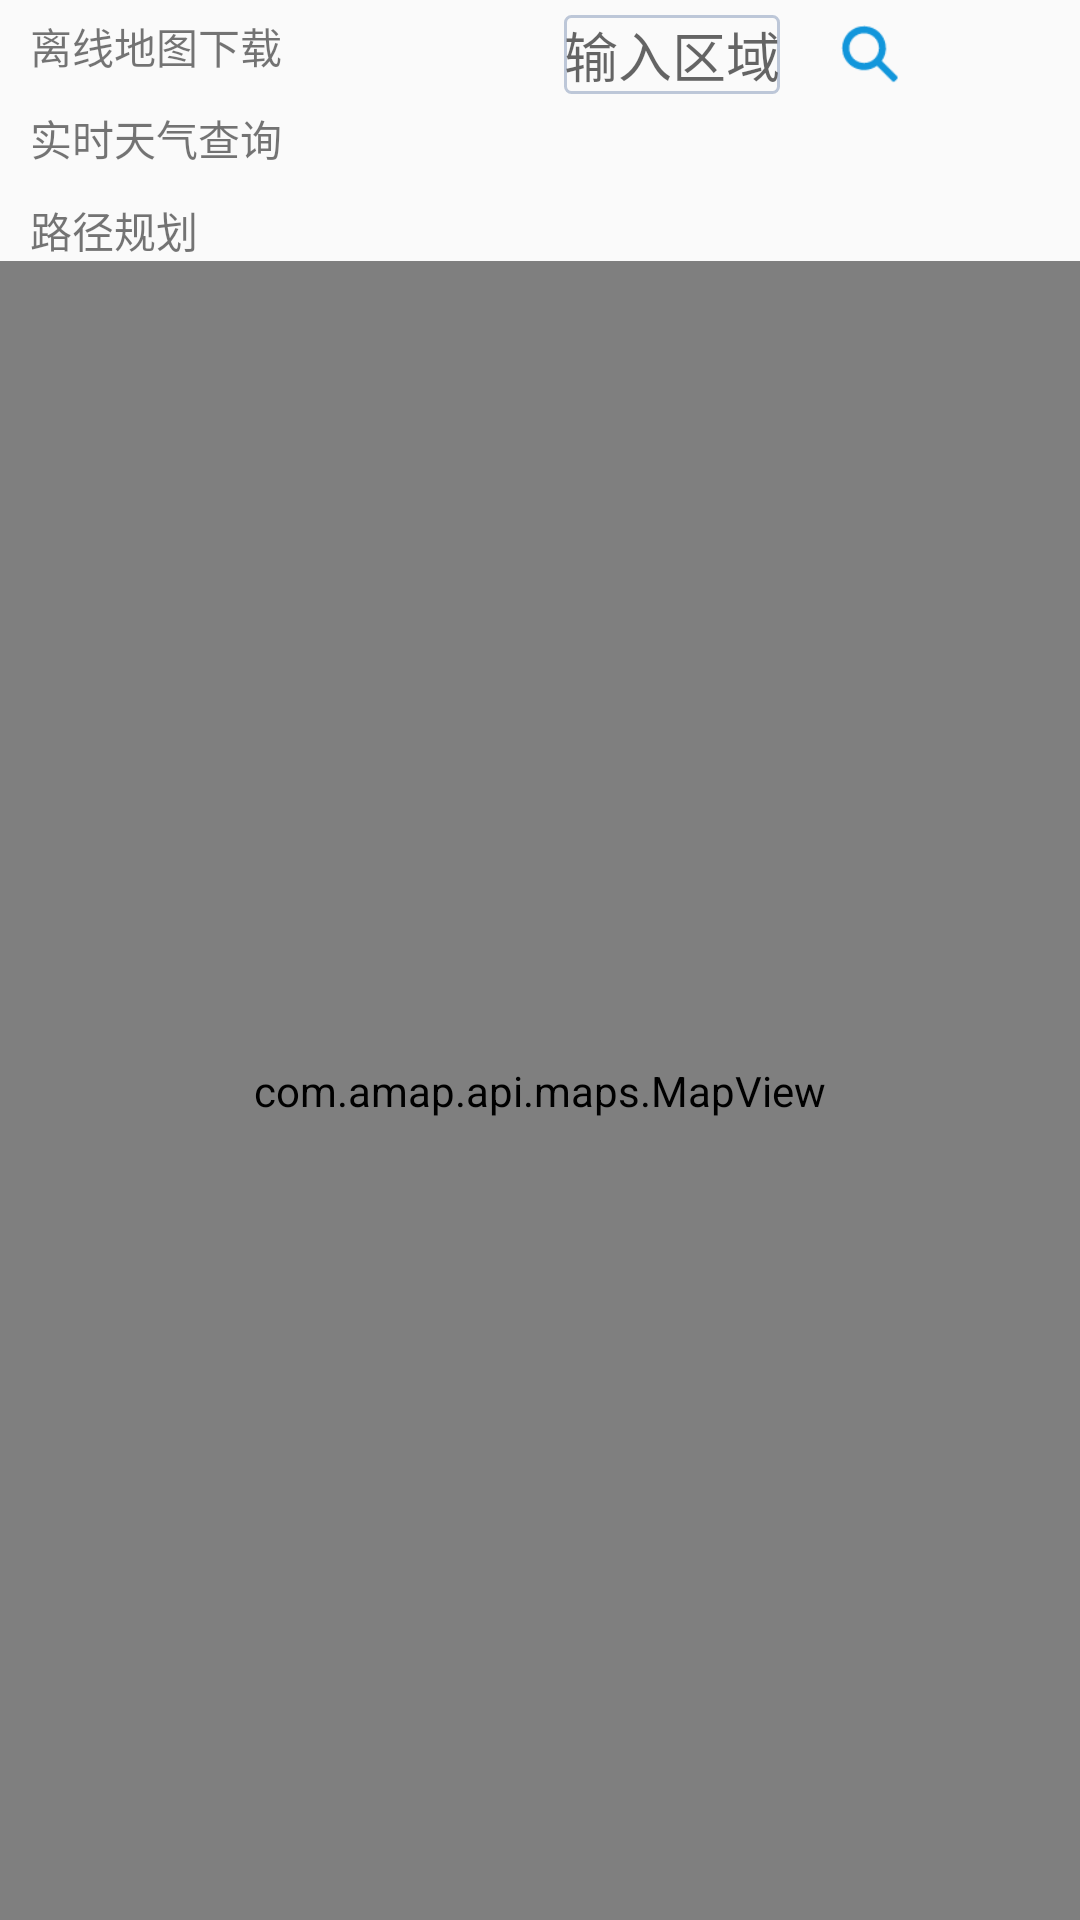

Named icons in this screenshot (1080 x 1920) and their bounding boxes, (x1, y1, x2, y2):
search: (841, 25, 898, 82)
